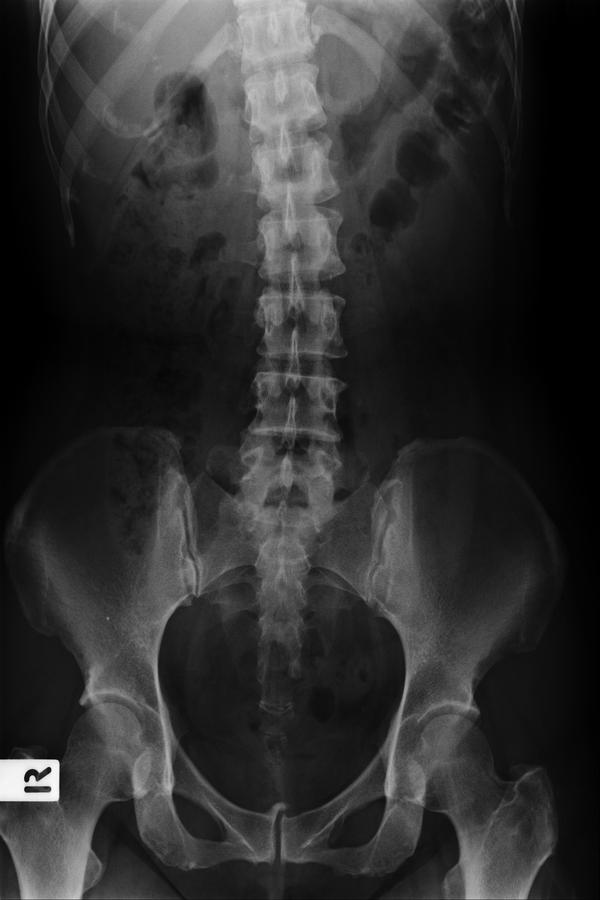lumbar scoliosis: (226, 58, 355, 506)
